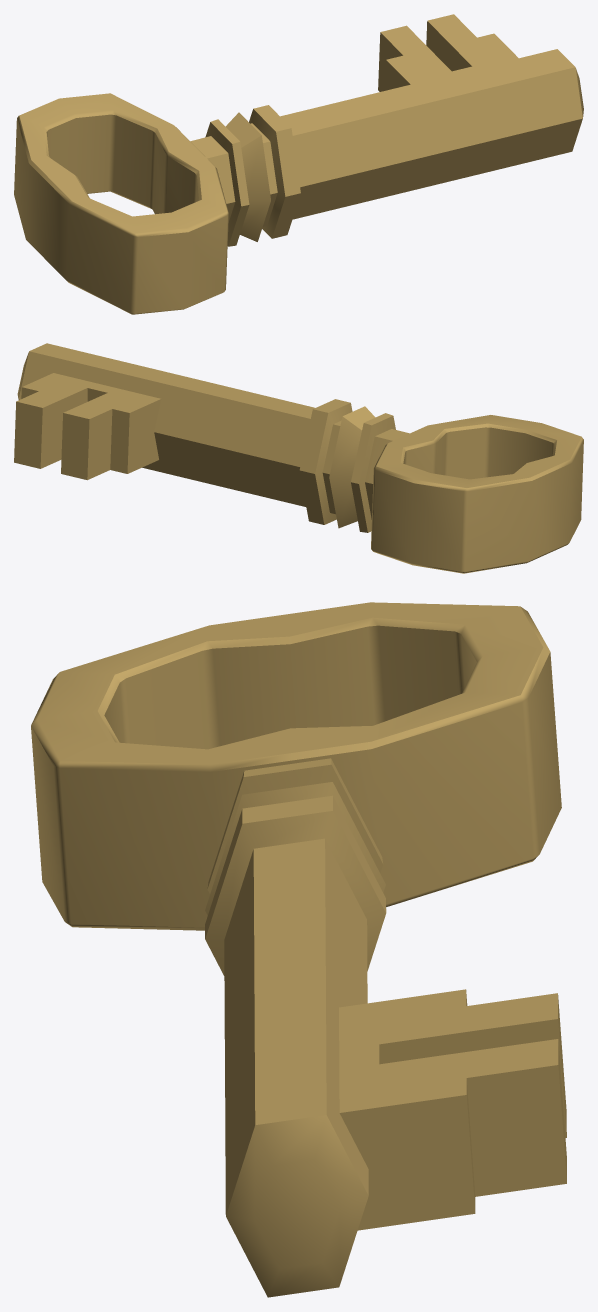
The model's file is sauna_key.glb.
The picture shows the model from 3 angles, top to bottom: view 1: azimuth 30°, elevation 25°; view 2: azimuth 150°, elevation 25°; view 3: azimuth 270°, elevation 25°; orthographic projection. The views are drawn at different scales.
Parts seen in each view (by area): view 1: sauna_key; view 2: sauna_key; view 3: sauna_key.
Part boxes in pixels (bbox=[...]): sauna_key: bbox=[14, 14, 583, 314]; sauna_key: bbox=[14, 343, 583, 573]; sauna_key: bbox=[31, 602, 566, 1297].
Size of the model in its own units: 0.18 by 0.04 by 0.08.
